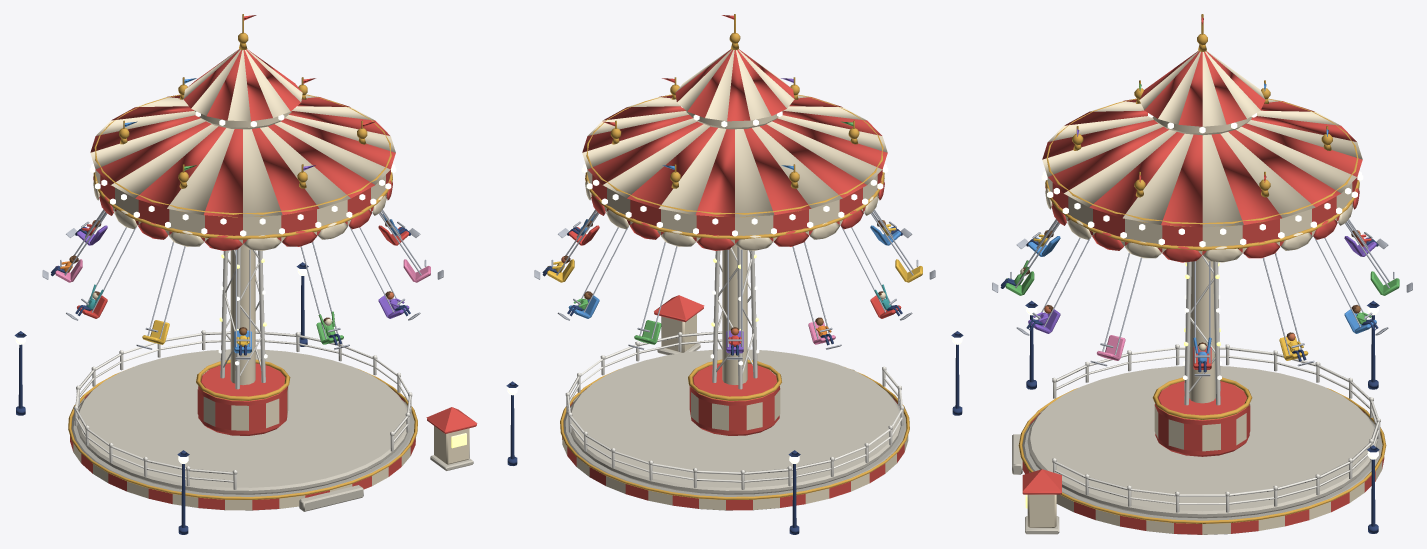
File: swings.glb
The picture shows the model from 3 angles, left to right: view 1: azimuth 30°, elevation 25°; view 2: azimuth 150°, elevation 25°; view 3: azimuth 270°, elevation 25°; orthographic projection. The views are drawn at different scales.
Visible parts, largest first — view 1: base_pw_stone, spin_pw_cream_canvas, spin_pw_accent_canvas, base_pw_accent_paint, base_pw_white_paint, base_pw_cream_paint, spin_pw_gold_brass, spin_pw_cream_paint, spin_pw_steel_chrome, base_pw_gold_brass, spin_pw_accent_paint, base_pw_concrete (+5 smaller); view 2: base_pw_stone, spin_pw_accent_canvas, spin_pw_cream_canvas, base_pw_cream_paint, base_pw_white_paint, base_pw_accent_paint, spin_pw_gold_brass, spin_pw_cream_paint, spin_pw_steel_chrome, base_pw_gold_brass, spin_pw_accent_paint, base_pw_concrete (+5 smaller); view 3: base_pw_stone, spin_pw_accent_canvas, spin_pw_cream_canvas, base_pw_cream_paint, base_pw_accent_paint, base_pw_white_paint, spin_pw_cream_paint, spin_pw_gold_brass, spin_pw_steel_chrome, base_pw_gold_brass, spin_pw_accent_paint, base_pw_concrete (+6 smaller).
Boxes of the visible parts, x1,y1,x2,y2 form: base_pw_stone: (76, 349, 473, 511); spin_pw_cream_canvas: (90, 49, 395, 250); spin_pw_accent_canvas: (90, 49, 395, 250); base_pw_accent_paint: (70, 363, 477, 510); base_pw_white_paint: (73, 246, 412, 489); base_pw_cream_paint: (73, 243, 469, 510); spin_pw_gold_brass: (93, 14, 392, 239); spin_pw_cream_paint: (92, 110, 393, 325); spin_pw_steel_chrome: (42, 209, 443, 359); base_pw_gold_brass: (68, 359, 417, 499); spin_pw_accent_paint: (100, 170, 390, 235); base_pw_concrete: (71, 399, 414, 510); base_pw_stone: (570, 343, 901, 494); spin_pw_accent_canvas: (582, 49, 887, 250); spin_pw_cream_canvas: (582, 49, 887, 250); base_pw_cream_paint: (562, 243, 908, 510); base_pw_white_paint: (565, 246, 904, 489); base_pw_accent_paint: (562, 295, 904, 510); spin_pw_gold_brass: (585, 14, 884, 239); spin_pw_cream_paint: (584, 110, 885, 299); spin_pw_steel_chrome: (534, 209, 935, 359); base_pw_gold_brass: (560, 359, 909, 499); spin_pw_accent_paint: (592, 170, 882, 236); base_pw_concrete: (563, 398, 906, 510); base_pw_stone: (1012, 366, 1377, 534); spin_pw_accent_canvas: (1042, 51, 1362, 262); spin_pw_cream_canvas: (1042, 51, 1362, 262); base_pw_cream_paint: (1022, 256, 1382, 534); base_pw_accent_paint: (1022, 381, 1384, 534); base_pw_white_paint: (1052, 255, 1380, 512); spin_pw_cream_paint: (1020, 116, 1352, 351); spin_pw_gold_brass: (1045, 14, 1359, 251); spin_pw_steel_chrome: (992, 219, 1412, 376); base_pw_gold_brass: (1018, 377, 1386, 523); spin_pw_accent_paint: (1052, 177, 1357, 246); base_pw_concrete: (1022, 420, 1382, 534).
Size of the model in its own units: 3.2 by 3.74 by 3.2.
